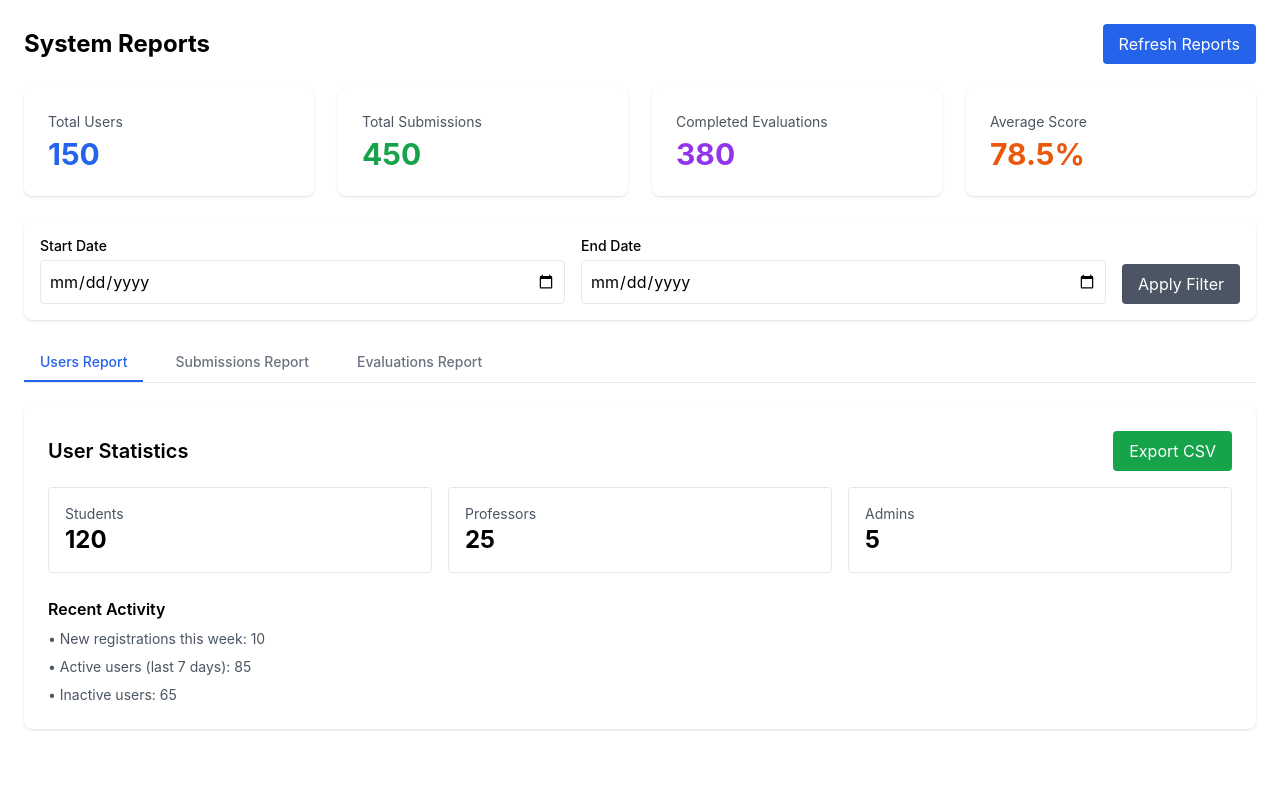
Test: AdminReports Tests › switches to evaluations report when tab is clicked
This screenshot has width=1280, height=800.
Expected: the heading "System Reports" is shown, [24, 28, 210, 60]
// Click on Evaluations Report tab
Click the button "Evaluations Report" at (420, 363), box [341, 344, 498, 382]
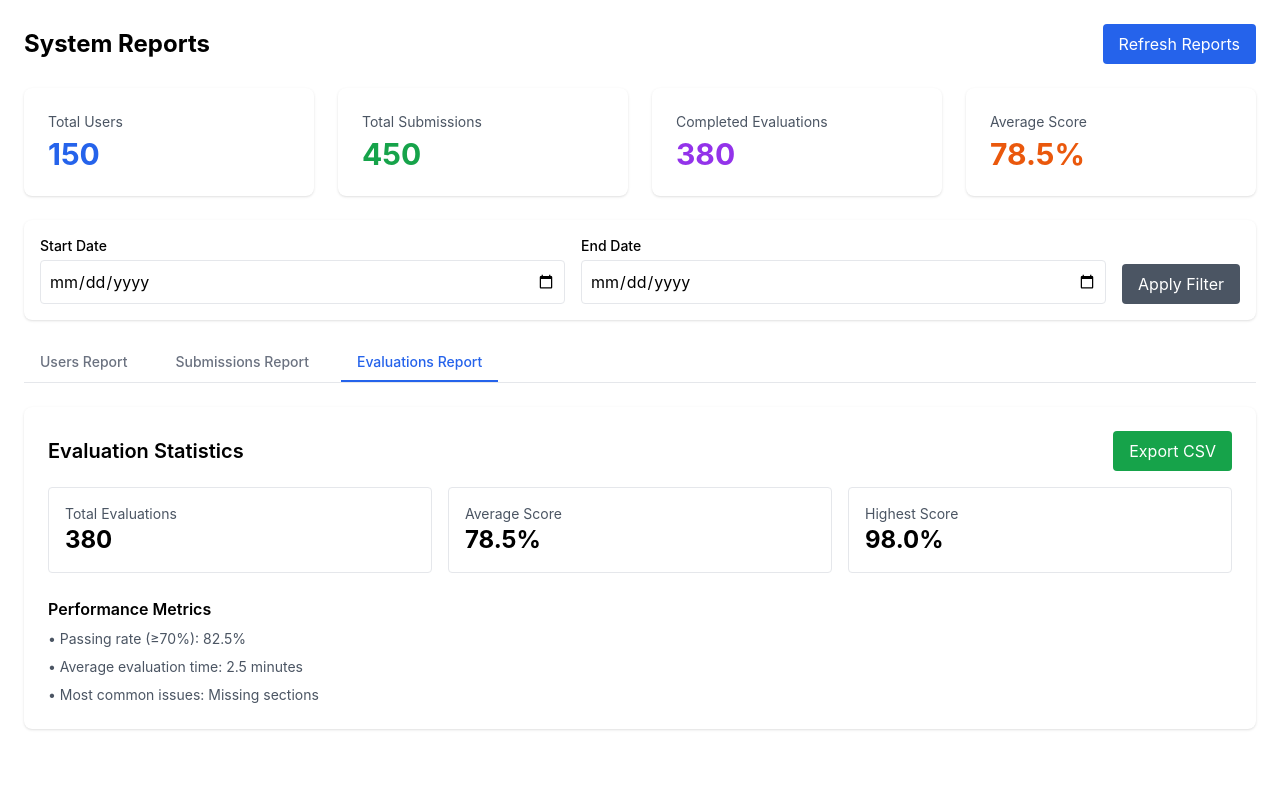
Now the heading "Evaluation Statistics" is shown, box [48, 437, 244, 465]
Now the text "Highest Score" is shown, box [865, 505, 958, 522]
Now the text "98.0%" is shown, box [865, 525, 944, 554]
